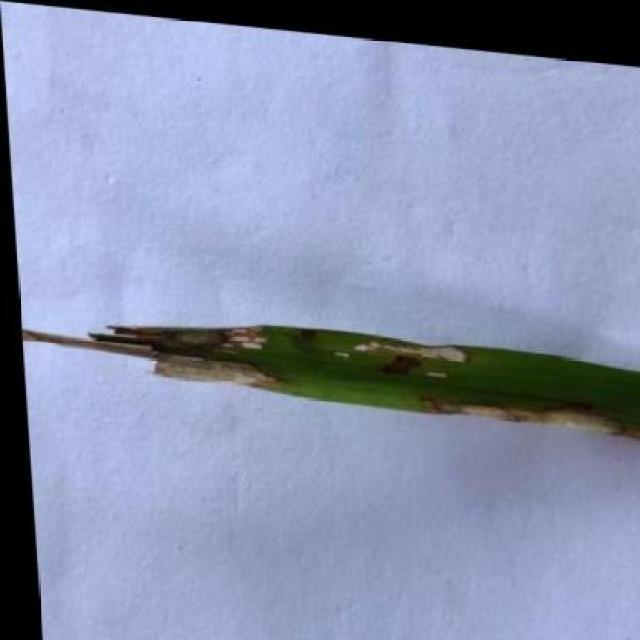Brown_Spot: (15, 291, 640, 437)
